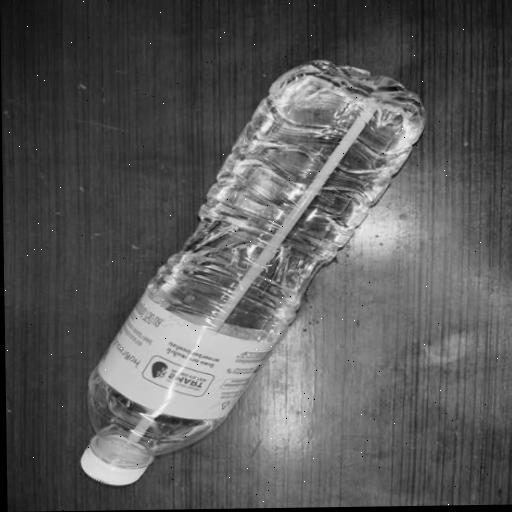ba: (65, 47, 445, 494)
